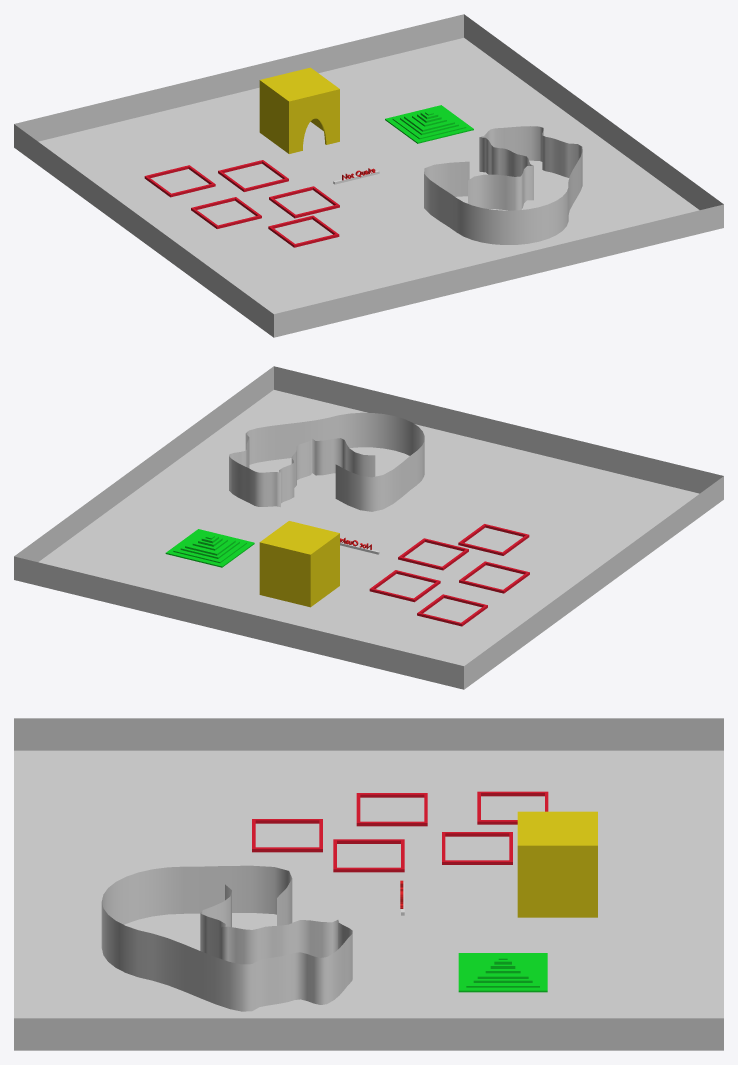
Rendered from level.gltf.
The picture shows the model from 3 angles, top to bottom: view 1: azimuth 30°, elevation 25°; view 2: azimuth 150°, elevation 25°; view 3: azimuth 270°, elevation 25°; orthographic projection. The views are drawn at different scales.
Parts seen in each view (by area): view 1: Plane, Circle, Cube.002, Cube.004, Cube.009, Cube.007, Cube.010, Cube.001, Cube.008; view 2: Plane, Circle, Cube.002, Cube.004, Cube.009, Cube.008, Cube.001, Cube.010, Cube.007; view 3: Plane, Circle, Cube.002, Cube.004, Cube.008, Cube.001, Cube.009, Cube.010, Cube.005, Cube.007, Cube.003.
Part boxes in pixels (x1,y1,x2,y2): Plane: (14,14,723,337); Circle: (424,126,582,244); Cube.002: (259,67,339,153); Cube.004: (385,105,473,143); Cube.009: (268,215,339,247); Cube.007: (144,165,215,197); Cube.010: (218,160,288,191); Cube.001: (269,186,339,218); Cube.008: (191,197,261,228); Plane: (14,366,723,689); Circle: (229,412,424,511); Cube.002: (259,521,339,607); Cube.004: (165,529,254,567); Cube.009: (458,524,529,555); Cube.008: (459,561,529,593); Cube.001: (398,538,468,570); Cube.010: (369,570,440,602); Cube.007: (417,594,487,626); Plane: (14,718,723,1050); Circle: (101,865,352,1011); Cube.002: (517,811,597,917); Cube.004: (458,953,547,992); Cube.008: (356,793,427,826); Cube.001: (333,839,404,872); Cube.009: (252,819,322,852); Cube.010: (442,832,512,864); Cube.005: (466,955,539,987); Cube.007: (477,791,548,824); Cube.003: (477,955,528,978).
Size of the model in its own units: 200 by 23.82 by 200.
